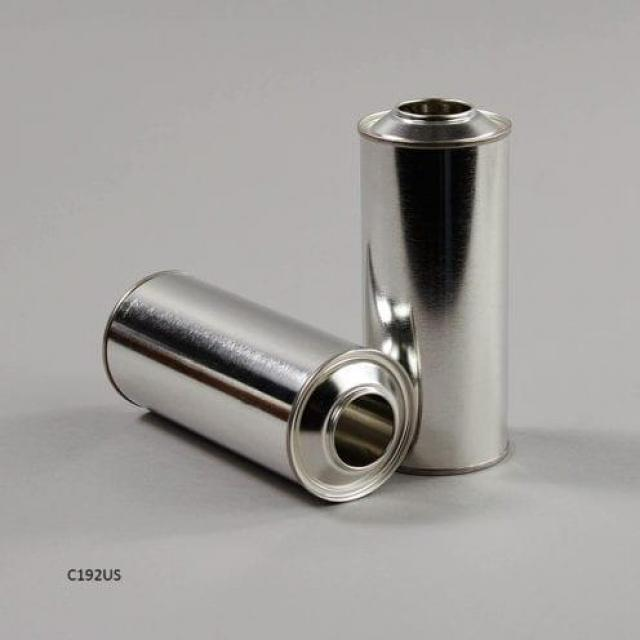metel: (359, 109, 522, 463), (119, 290, 382, 490)
